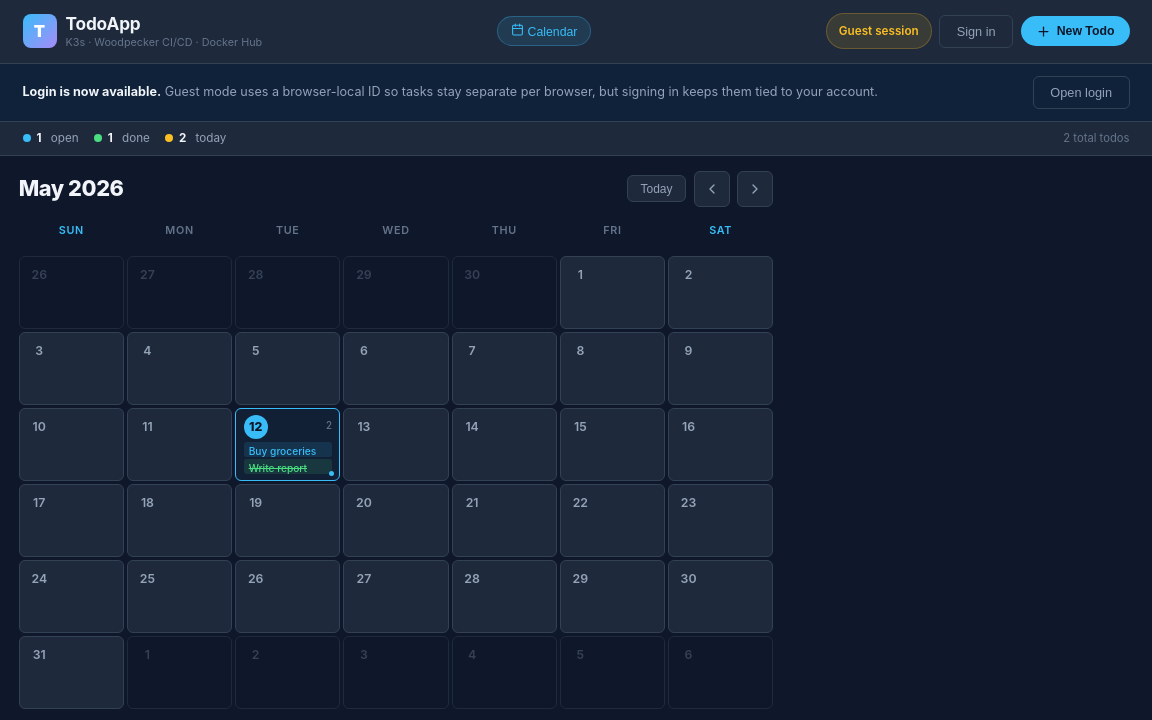
Test: HomePage › Day panel › closes when clicking the close button
The image size is (1152, 720).
expect the text "2 total todos" is shown: met, box [1063,130,1130,147]
Click the element with class "today" at point(288, 444), box [235,408,340,481]
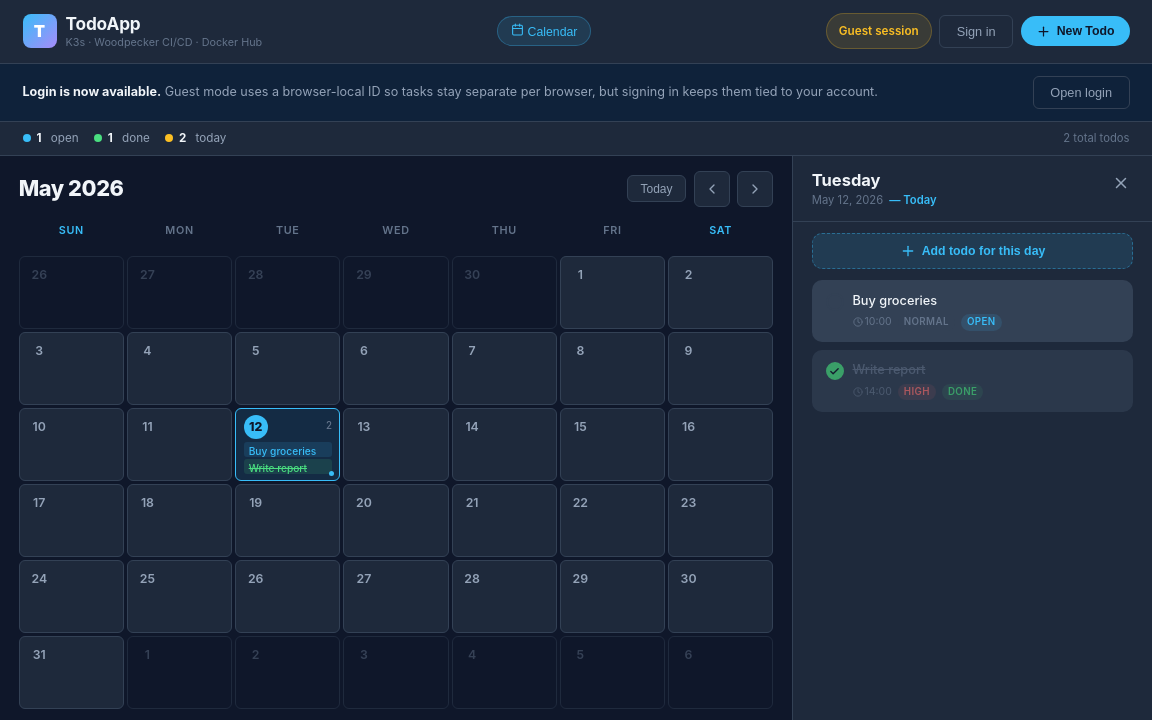
expect the button "Add todo for this day" is shown: met, box [812,233,1133,269]
Click the button without text in the row of "Tuesday" at point(1121, 183), box [1109,171,1133,195]
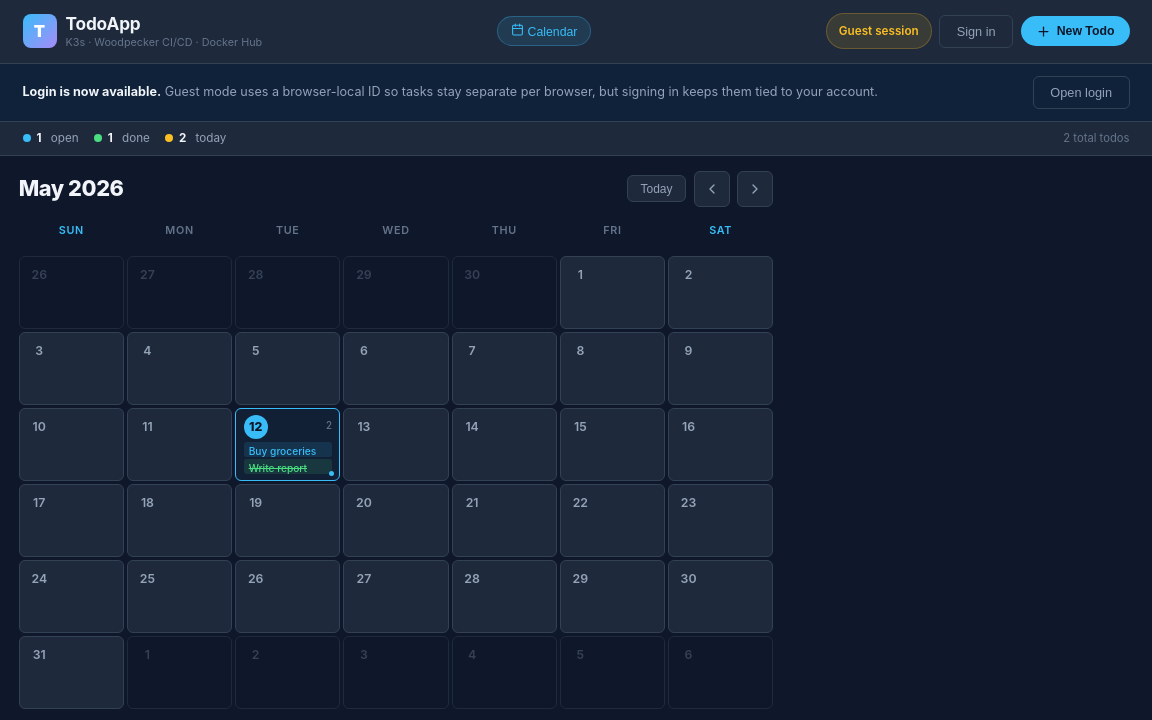
expect the button "Add todo for this day" is gone: met
